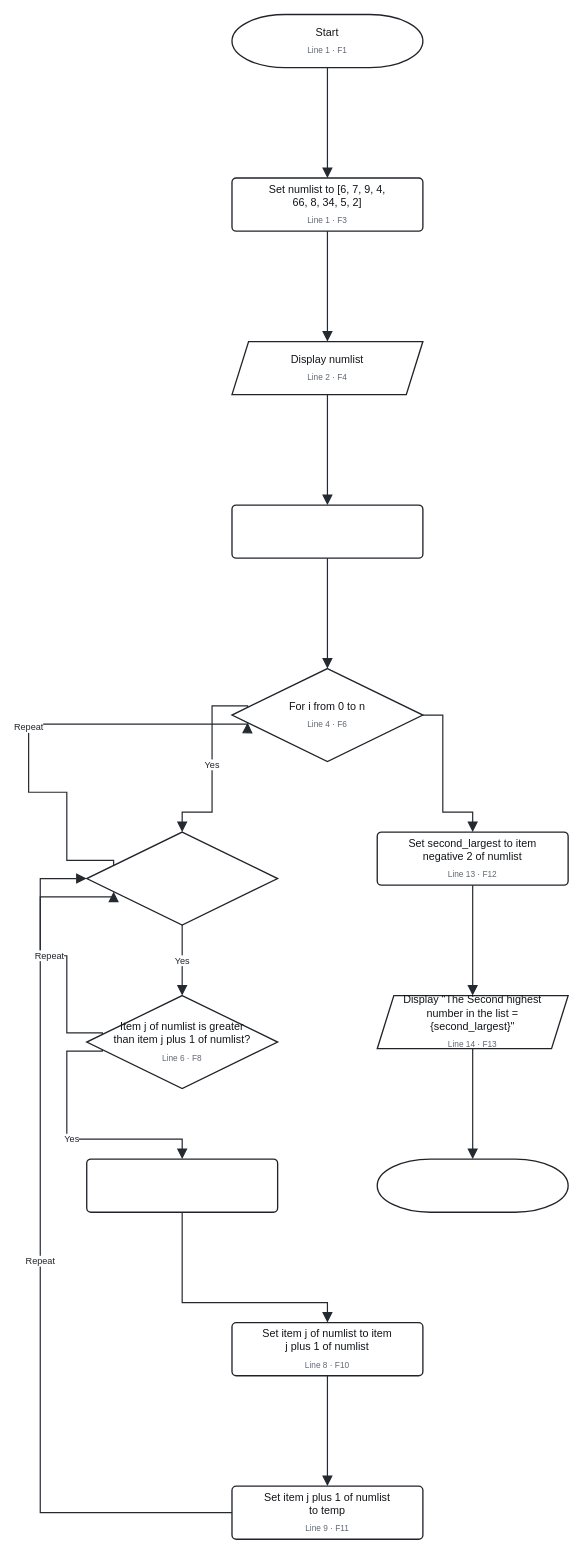
Image size: 583x1555. Some labels were removed from this diagram. Here are the shapes that lost their labels. From the top down, the centre of each, then its label:
At point (327, 531): "Set n to the length of numlist minus 1 Line 3 · F5".
At point (182, 878): "For j from 0 to n minus i Line 5 · F7".
At point (182, 1185): "Set temp to item j of numlist Line 7 · F9".
At point (472, 1185): "End Line 1 · F2".
